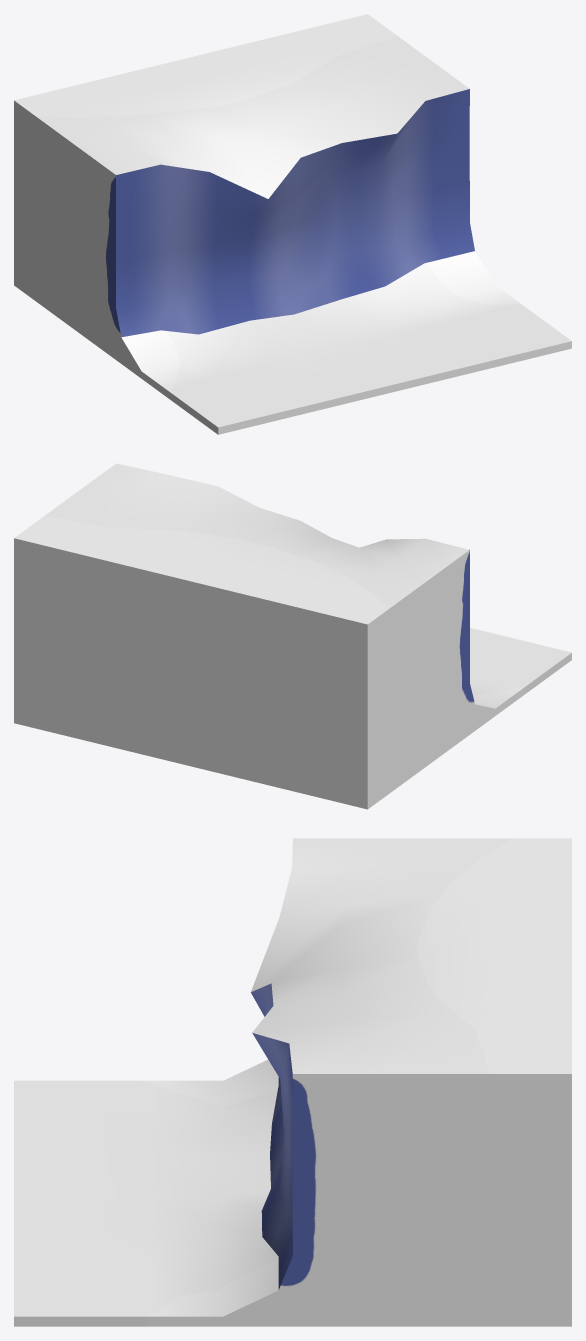
Rendered from wall_straight_1_1.glb.
3 views of the same model, one above another, from view 1: azimuth 30°, elevation 25°; view 2: azimuth 150°, elevation 25°; view 3: azimuth 270°, elevation 25° (orthographic). The views are drawn at different scales.
Visible parts, largest first — view 1: wall_straight_1.001; view 2: wall_straight_1.001; view 3: wall_straight_1.001.
Part boxes in pixels (x1,y1,x2,y2): wall_straight_1.001: [14, 14, 571, 434]; wall_straight_1.001: [14, 463, 571, 809]; wall_straight_1.001: [14, 838, 571, 1326].
Size of the model in its own units: 2 by 1 by 2.
1 material, 1 textured.
